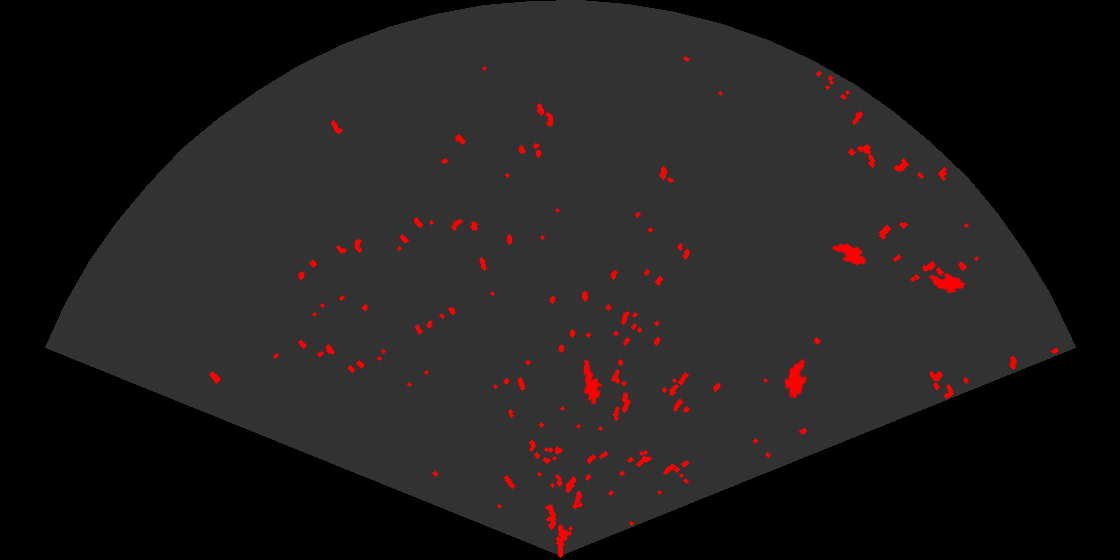AUV: (783, 357, 809, 401), (830, 242, 868, 267), (927, 272, 967, 295)
frogman: (582, 358, 604, 404)
